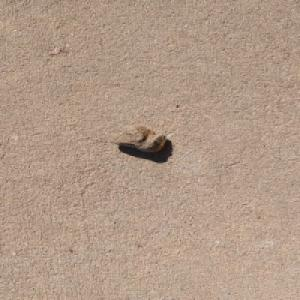Rock: (106, 124, 168, 152)
